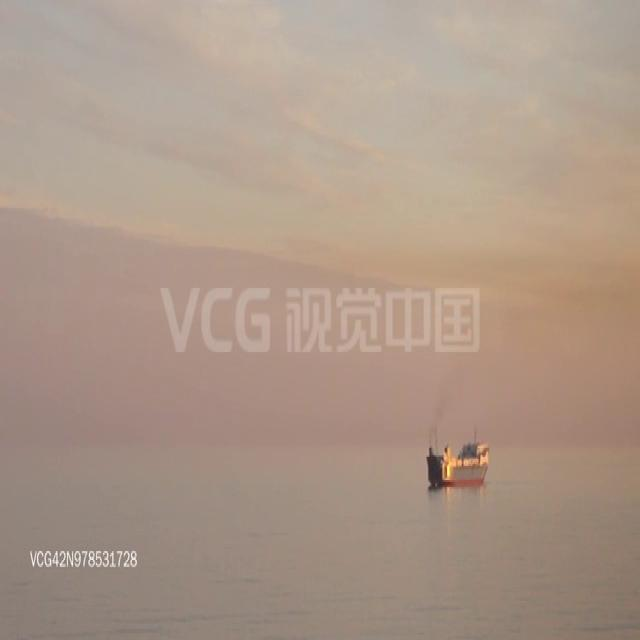cargoship: (426, 426, 489, 487)
